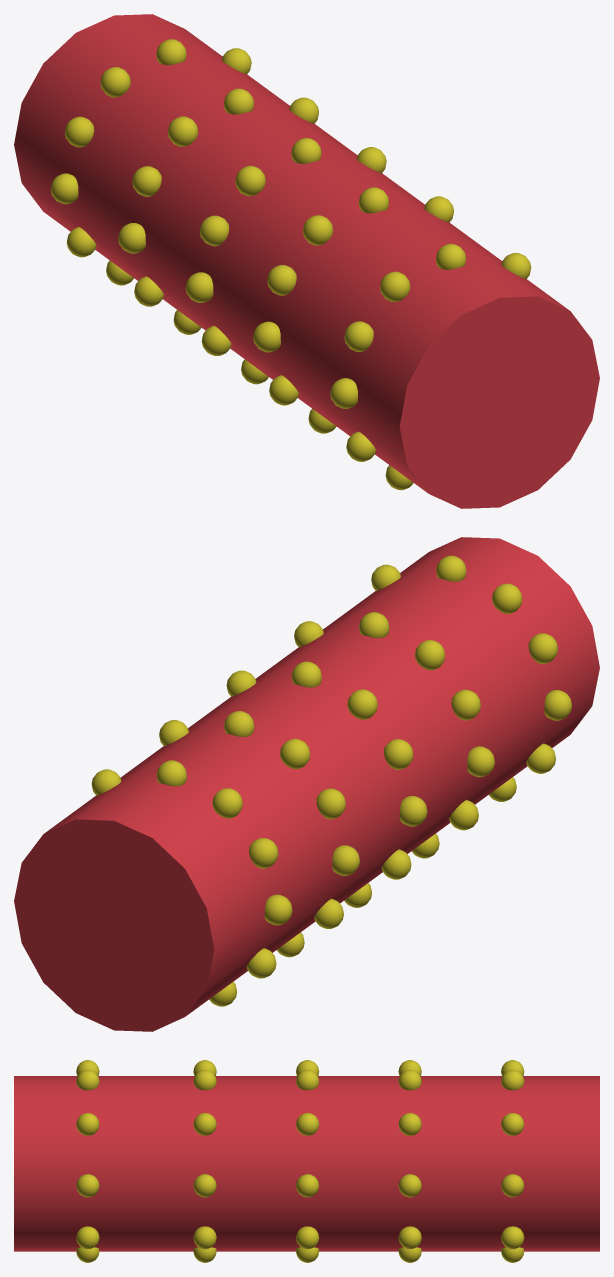
File: barrier.fbx
3 views of the same model, one above another, from view 1: azimuth 30°, elevation 25°; view 2: azimuth 150°, elevation 25°; view 3: azimuth 270°, elevation 25° (orthographic). The views are drawn at different scales.
Parts seen in each view (by area): view 1: Cylinder, Sphere_2_4, Sphere_2_5, Sphere_2_2, Sphere_2_6, Sphere_2, Sphere_1_4, Sphere_1_5, Sphere_1, Sphere_1_3, Sphere_1_2, Sphere_3_3 (+14 smaller); view 2: Cylinder, Sphere_2_6, Sphere_2_2, Sphere_2, Sphere_2_4, Sphere_2_5, Sphere_1_4, Sphere_1_2, Sphere_1_3, Sphere_1_5, Sphere_1, Sphere_3_6 (+14 smaller); view 3: Cylinder, Sphere_8_2, Sphere_9, Sphere_9_2, Sphere_9_4, Sphere_9_5, Sphere_8, Sphere_9_3, Sphere_8_4, Sphere_8_5, Sphere_8_3, Sphere_10_3 (+14 smaller).
Part boxes in pixels (x1,y1,x2,y2): Cylinder: (14, 14, 599, 508); Sphere_2_4: (235, 165, 265, 196); Sphere_2_5: (168, 116, 198, 146); Sphere_2_2: (303, 215, 333, 245); Sphere_2_6: (100, 67, 130, 97); Sphere_2: (380, 271, 410, 301); Sphere_1_4: (132, 166, 161, 196); Sphere_1_5: (64, 116, 94, 147); Sphere_1: (344, 321, 373, 351); Sphere_1_3: (199, 215, 229, 246); Sphere_1_2: (267, 265, 296, 295); Sphere_3_3: (185, 272, 213, 302); Cylinder: (14, 537, 599, 1031); Sphere_2_6: (212, 788, 242, 818); Sphere_2_2: (415, 640, 445, 670); Sphere_2: (492, 583, 522, 613); Sphere_2_4: (347, 689, 377, 719); Sphere_2_5: (280, 738, 310, 769); Sphere_1_4: (316, 788, 345, 819); Sphere_1_2: (451, 689, 480, 720); Sphere_1_3: (384, 739, 413, 769); Sphere_1_5: (249, 838, 278, 868); Sphere_1: (528, 633, 557, 663); Sphere_3_6: (264, 894, 292, 925); Cylinder: (14, 1076, 599, 1251); Sphere_8_2: (193, 1226, 216, 1249); Sphere_9: (76, 1174, 99, 1197); Sphere_9_2: (193, 1174, 216, 1197); Sphere_9_4: (398, 1174, 421, 1197); Sphere_9_5: (501, 1174, 524, 1197); Sphere_8: (76, 1226, 99, 1249); Sphere_9_3: (296, 1174, 319, 1197); Sphere_8_4: (398, 1226, 421, 1249); Sphere_8_5: (501, 1226, 524, 1249); Sphere_8_3: (296, 1226, 319, 1249); Sphere_10_3: (296, 1113, 319, 1135).
Size of the model in its own units: 353 by 344 by 1000.
